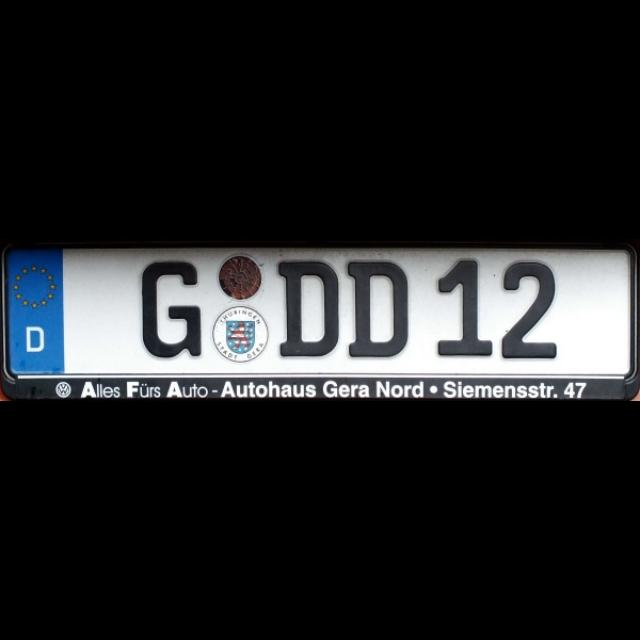d_license_plate: (3, 248, 631, 378)
